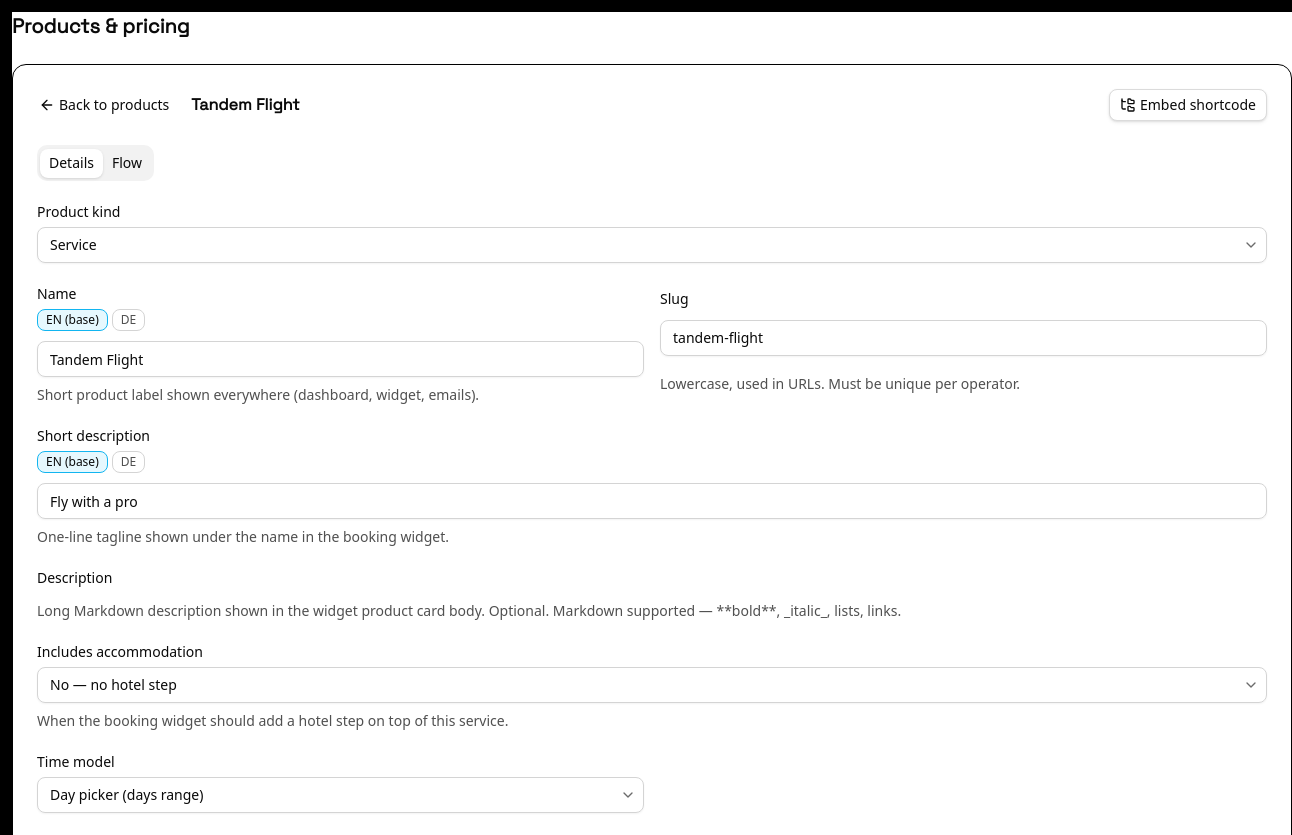
Products route › renders duration-specific fields when time_slot is selected
Check: the field labelled "Name" is shown, box [37,341,644,377]
Select "Time slot" in the dropdown labelled "Time model" at (340, 795), box [37,777,644,813]
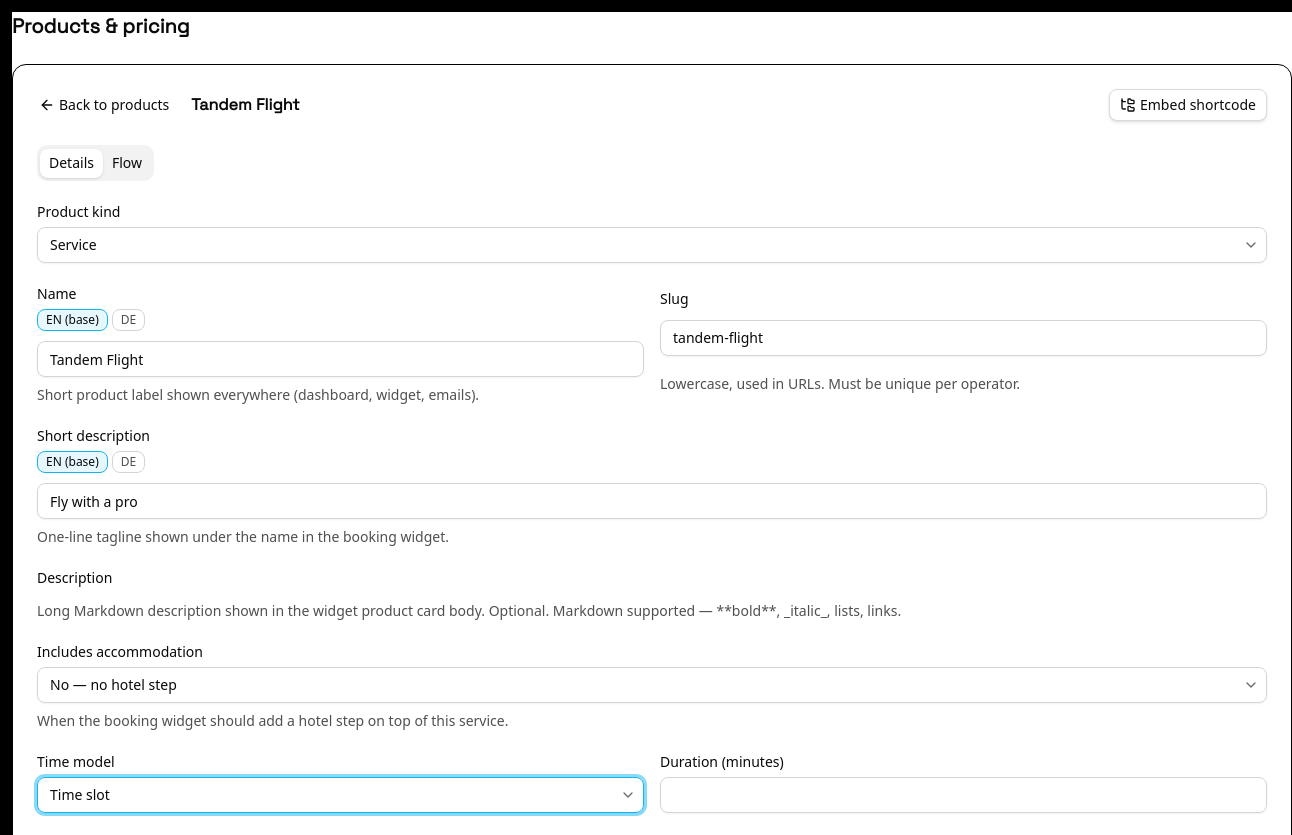
Check: the number field labelled "Duration (minutes)" is shown, box [660,777,1267,813]
